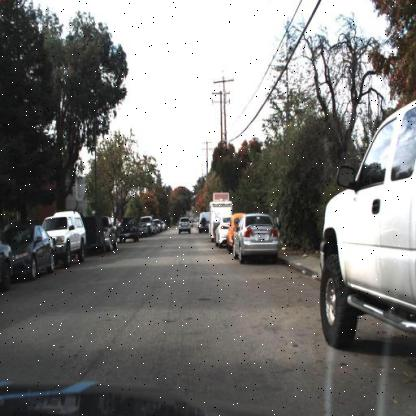car: (318, 99, 416, 348), (0, 224, 56, 280), (232, 209, 280, 263), (41, 208, 86, 263), (226, 212, 248, 254), (116, 213, 142, 244), (175, 215, 195, 236)
